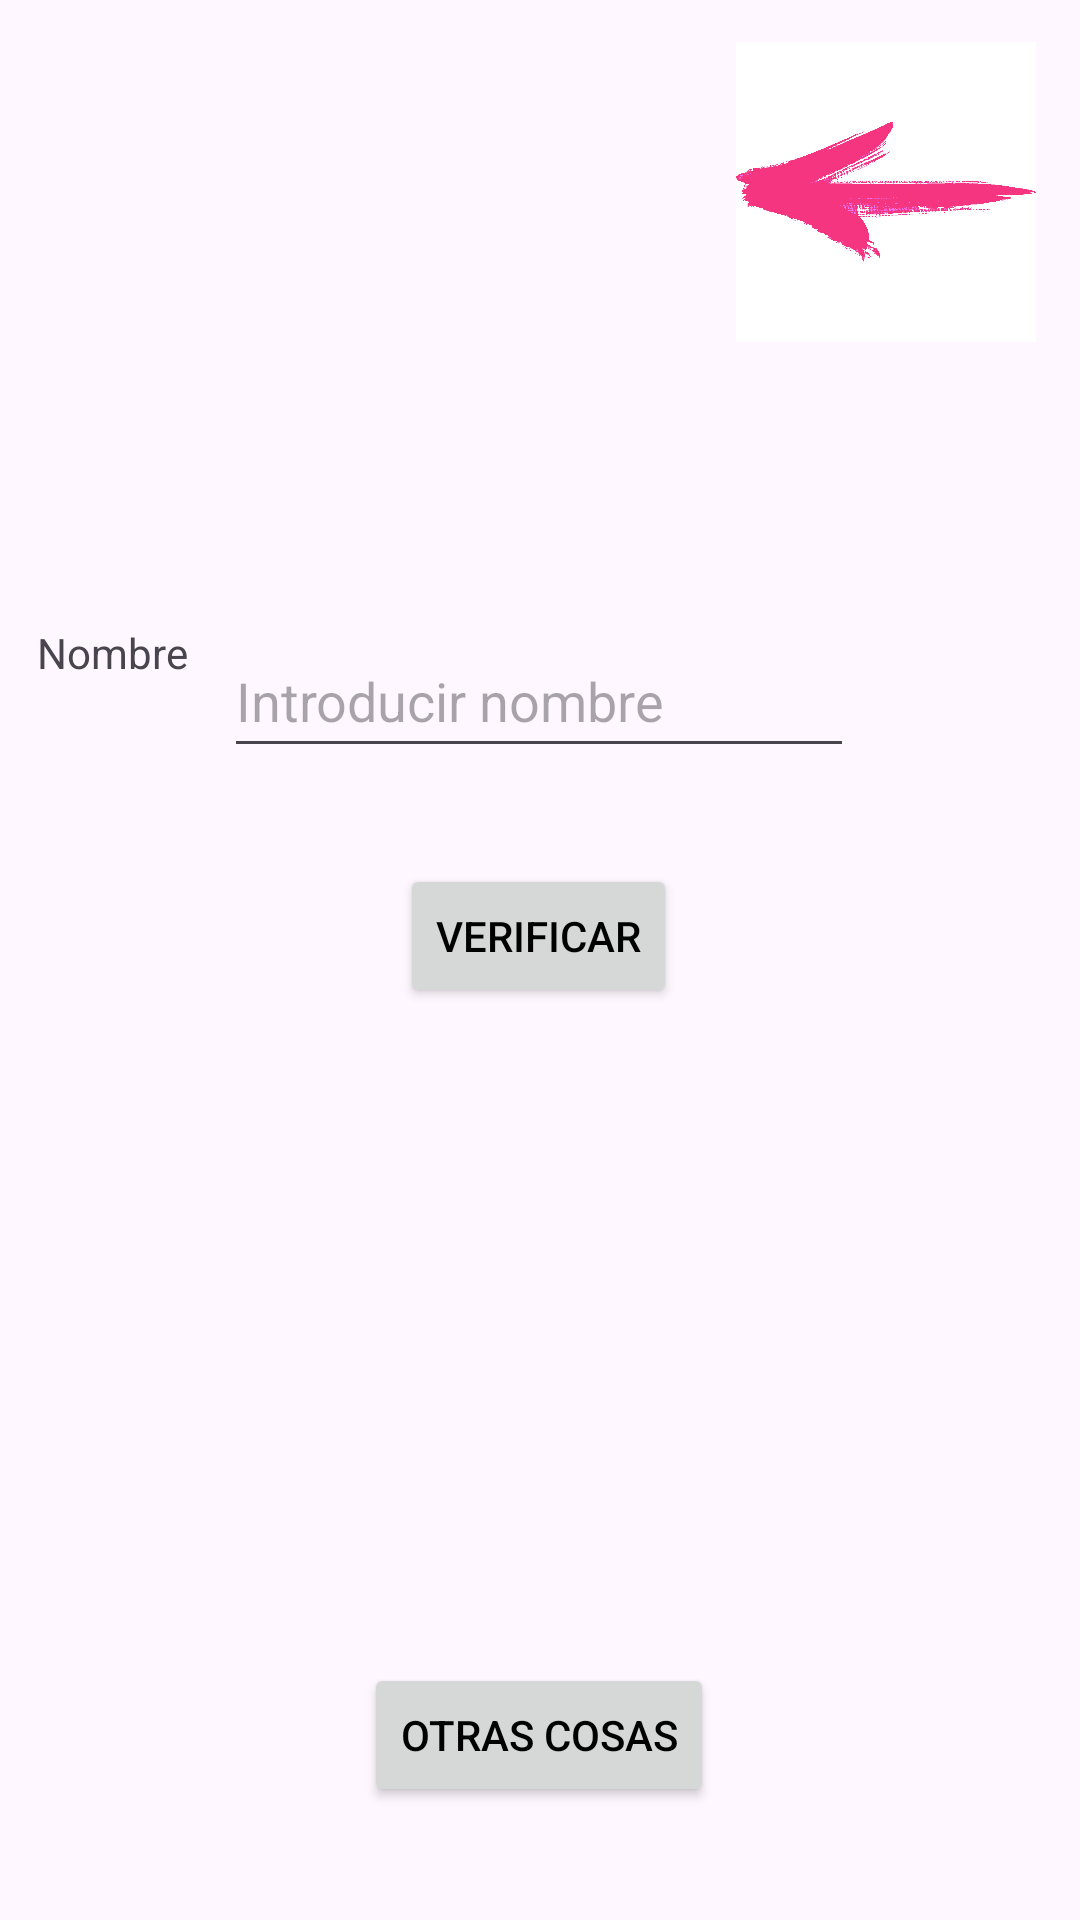

Named icons in this screenshot (1080 × 1920) and their bounding boxes, Rect(x1, y1, x2, y2):
botón de flecha atrás: Rect(736, 122, 1036, 262)
